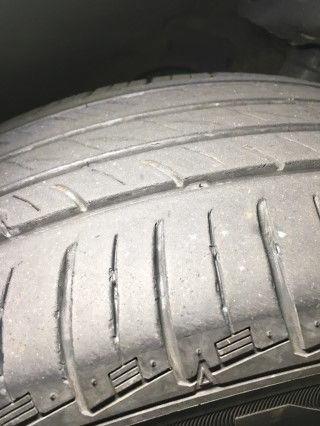middle_condition: (1, 67, 320, 421)
